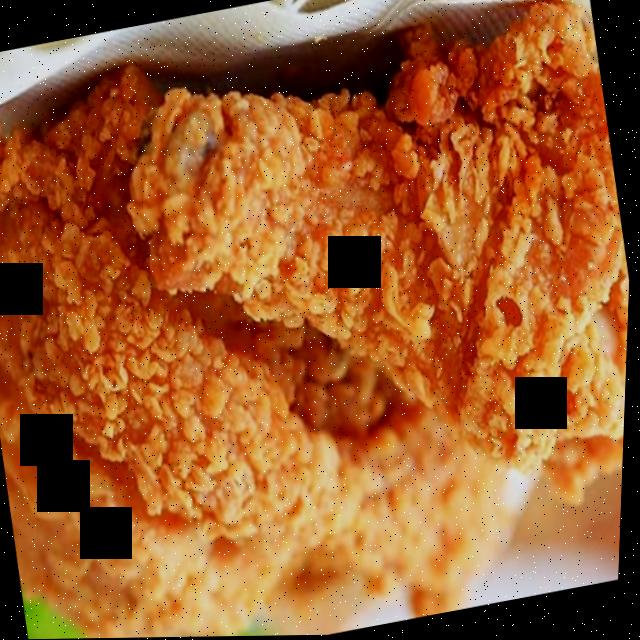Frango: (100, 0, 640, 537), (0, 44, 348, 600)
